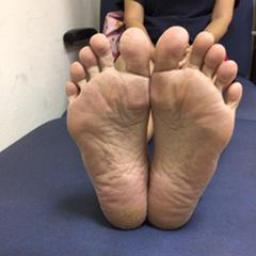Plantar View -Both Feet-: (60, 20, 245, 240)
